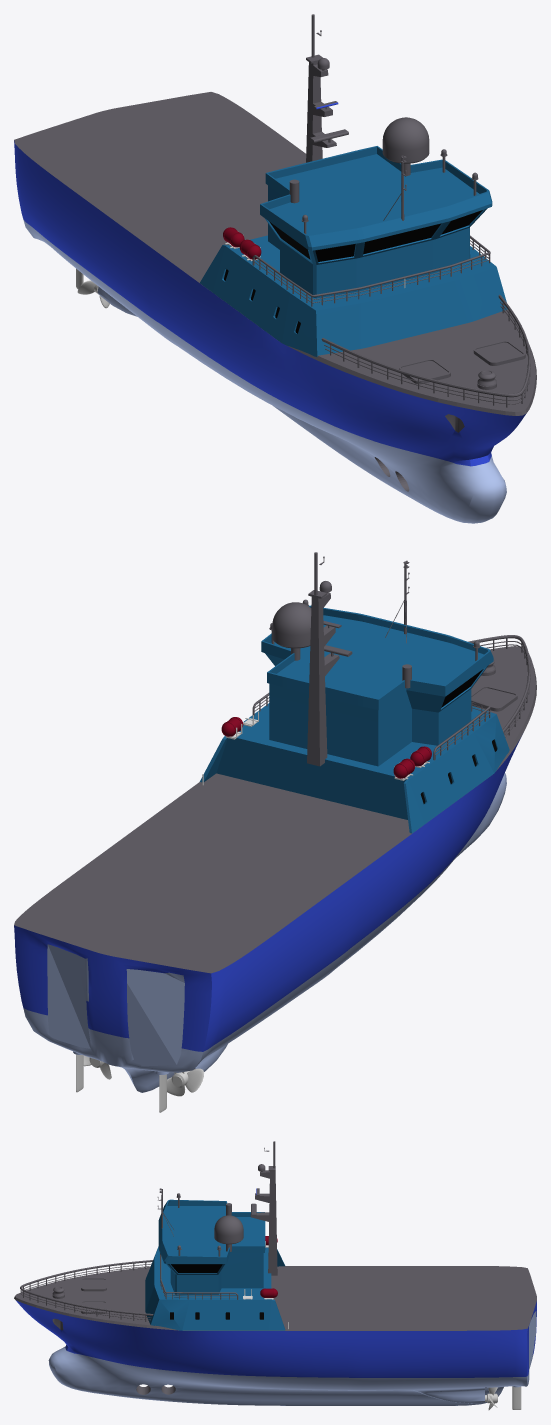
File: Boat3.5.fbx
3 views of the same model, one above another, from view 1: azimuth 30°, elevation 25°; view 2: azimuth 150°, elevation 25°; view 3: azimuth 270°, elevation 25° (orthographic). The views are drawn at different scales.
Visible parts, largest first — view 1: Cube.254, Cube.253, Cube.001, Sphere.047, Cube.239, Cube.235, Cube.193, Cube.237, Cube.194; view 2: Cube.001, Cube.254, Cube.253, Cube.239, Sphere.047, Cube.194; view 3: Cube.254, Cube.001, Cube.253, Cube.239, Sphere.047, Cube.235, Cube.194, Cube.231, Cube.206.
Boxes of the visible parts, left/top/right/bottom form: Cube.254: left=14, top=92, right=526, bottom=523; Cube.253: left=200, top=146, right=507, bottom=356; Cube.001: left=14, top=97, right=536, bottom=415; Sphere.047: left=382, top=117, right=429, bottom=163; Cube.239: left=306, top=62, right=336, bottom=162; Cube.235: left=321, top=294, right=530, bottom=397; Cube.193: left=473, top=341, right=525, bottom=365; Cube.237: left=252, top=235, right=490, bottom=296; Cube.194: left=399, top=359, right=450, bottom=384; Cube.001: left=19, top=646, right=536, bottom=973; Cube.254: left=14, top=734, right=522, bottom=1092; Cube.253: left=199, top=605, right=509, bottom=833; Cube.239: left=307, top=592, right=339, bottom=766; Sphere.047: left=272, top=602, right=311, bottom=648; Cube.194: left=471, top=686, right=517, bottom=711; Cube.254: left=16, top=1300, right=536, bottom=1405; Cube.001: left=14, top=1266, right=536, bottom=1330; Cube.253: left=145, top=1199, right=285, bottom=1330; Cube.239: left=250, top=1170, right=277, bottom=1275; Sphere.047: left=214, top=1215, right=243, bottom=1244; Cube.235: left=20, top=1260, right=153, bottom=1315; Cube.194: left=81, top=1278, right=106, bottom=1291; Cube.231: left=20, top=1263, right=151, bottom=1318; Cube.206: left=20, top=1266, right=150, bottom=1320.
Bounding box in the file's own units: 326 × 617 × 1108.
